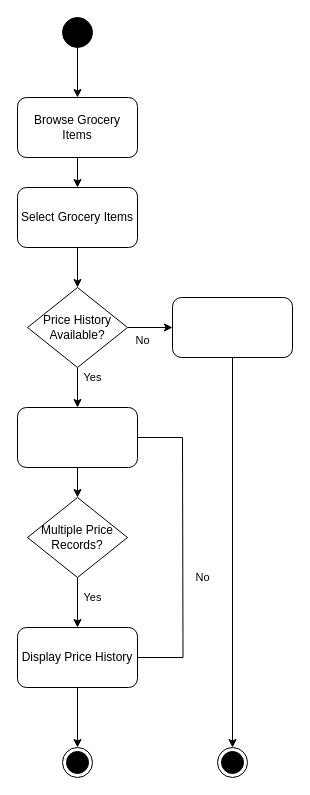
Some shapes in this 310 by 795 pixel diagram are drawn without their labels. The centre of each missing label's shape, as x and y in pixels:
"Display No History Available" goes at (x=232, y=327).
"Retrieve Historical Prices" goes at (x=77, y=437).
